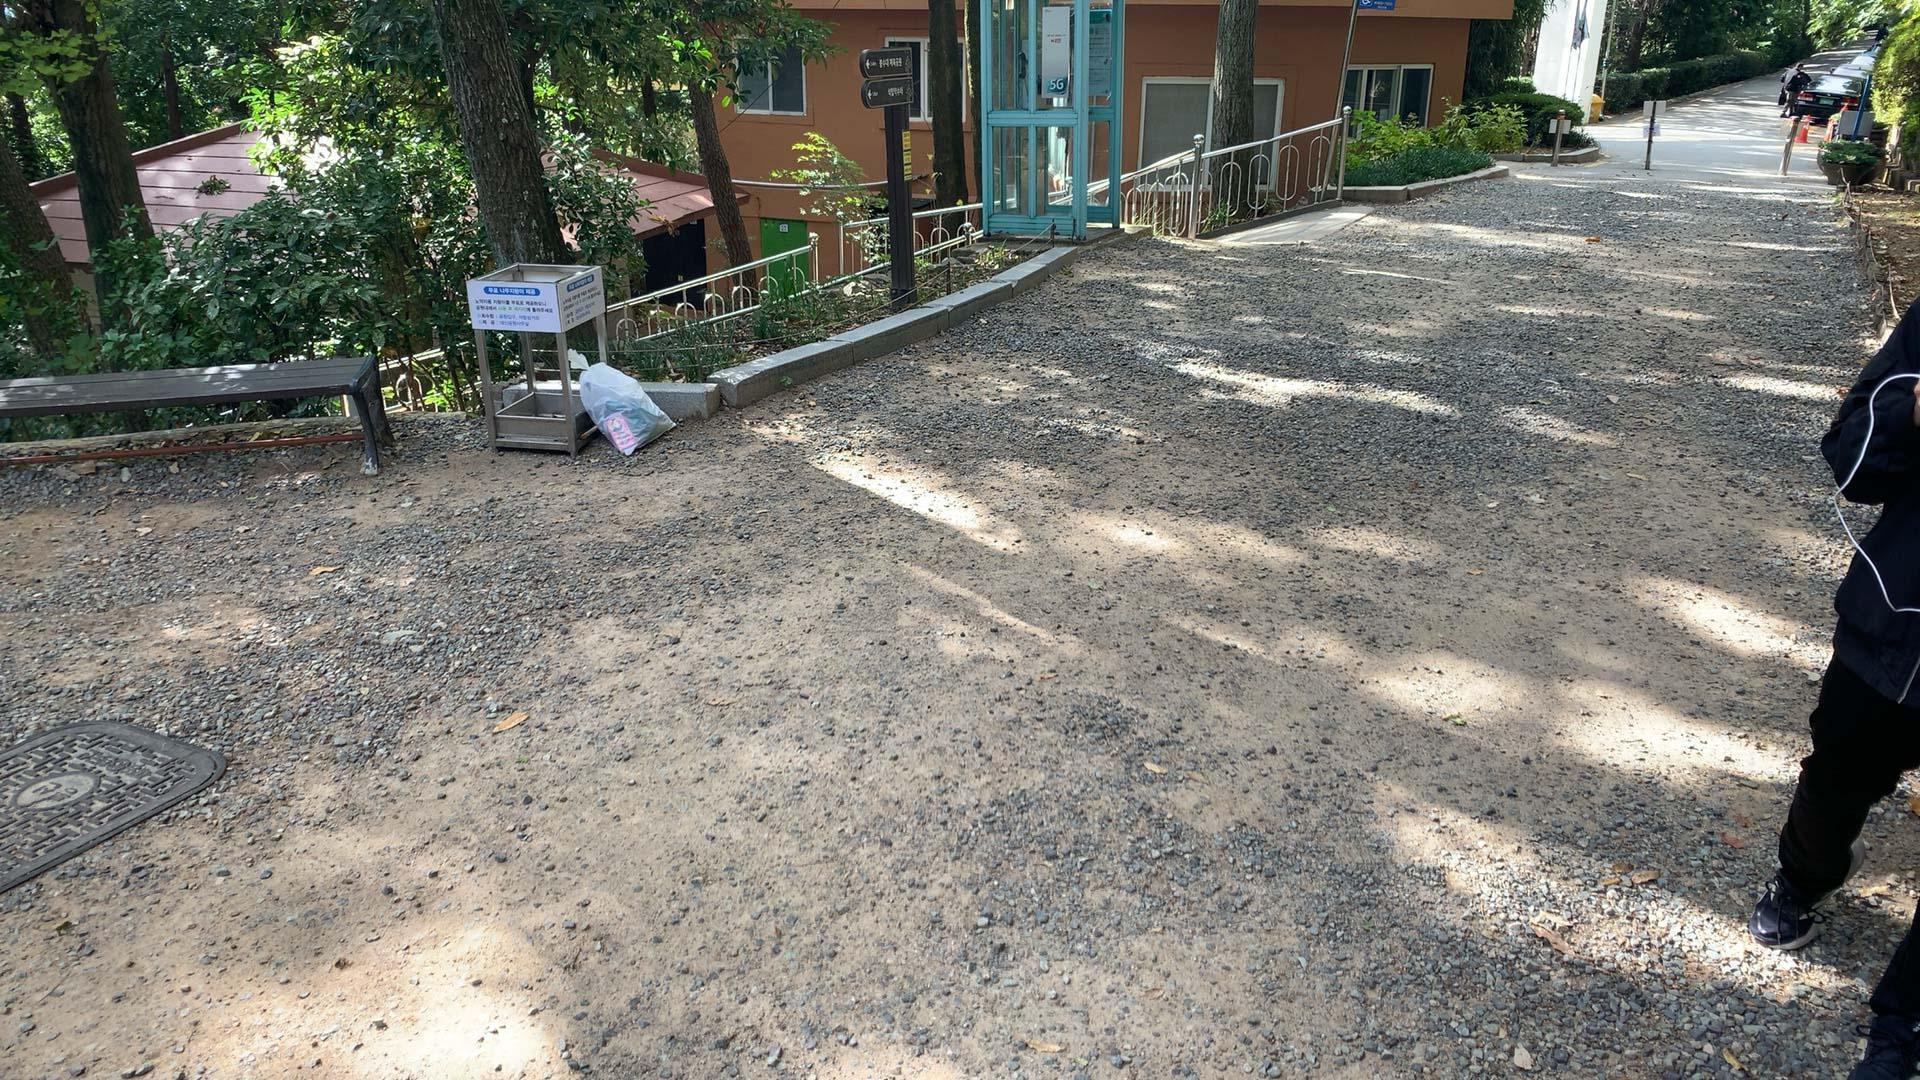white_bag: (563, 342, 684, 458)
